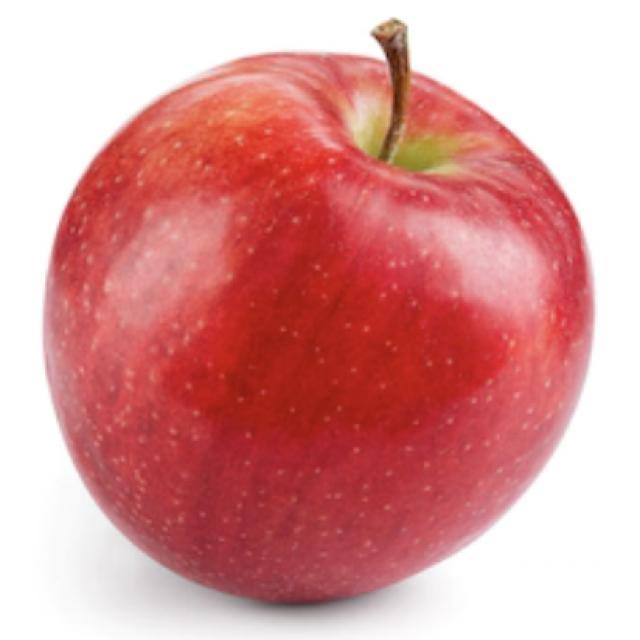Fresh Apple: (74, 50, 578, 600)
